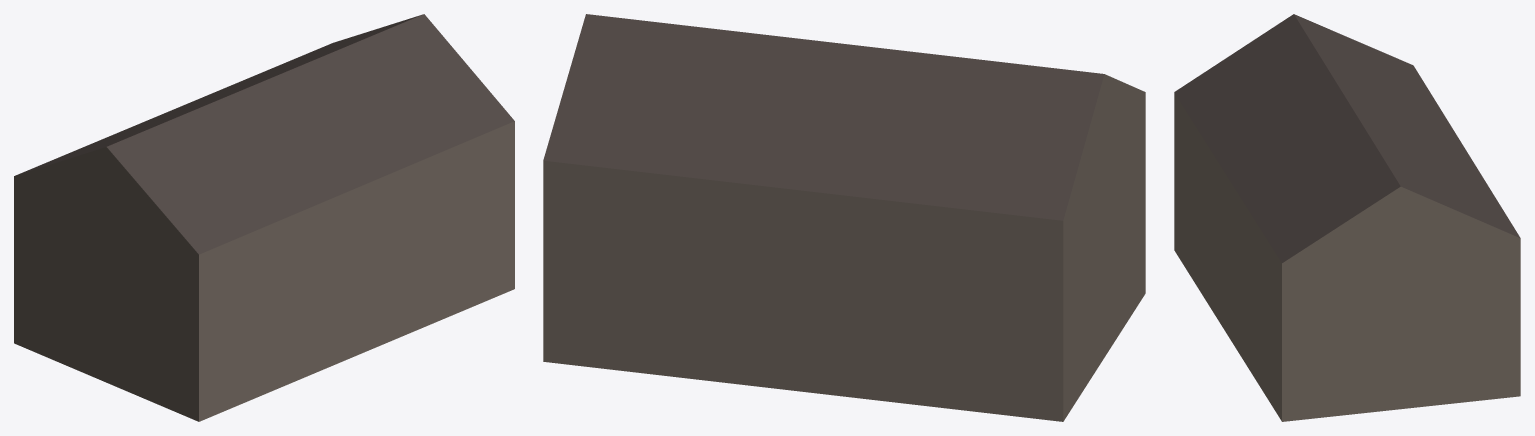
3 renders of one model, left to right at view 1: azimuth 30°, elevation 25°; view 2: azimuth 150°, elevation 25°; view 3: azimuth 270°, elevation 25°, orthographic. The views are drawn at different scales.
Parts seen in each view (by area): view 1: HP-w1202498298; view 2: HP-w1202498298; view 3: HP-w1202498298.
Boxes of the visible parts, left/top/right/bottom form: HP-w1202498298: left=14, top=14, right=514, bottom=421; HP-w1202498298: left=543, top=14, right=1145, bottom=421; HP-w1202498298: left=1174, top=14, right=1520, bottom=421.
Bounding box in the file's own units: 24.29 × 12.69 × 17.91.
